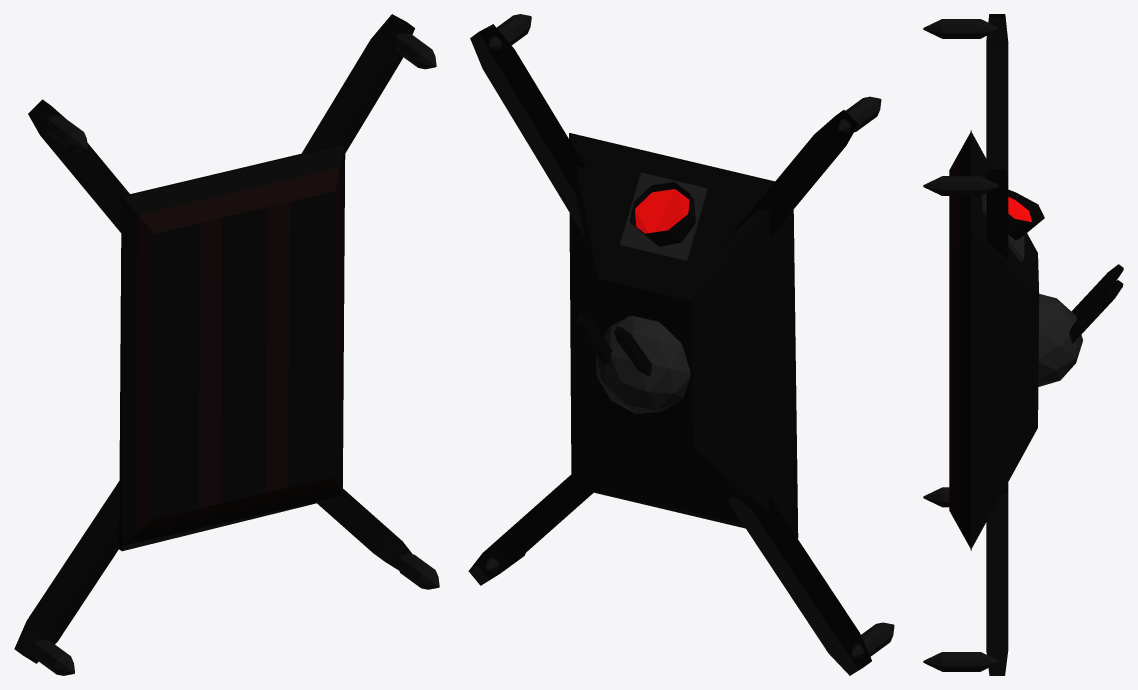
Rendered from VoladorINMOVIL.obj.
3 views of the same model, side by side, from view 1: azimuth 30°, elevation 25°; view 2: azimuth 150°, elevation 25°; view 3: azimuth 270°, elevation 25° (orthographic). The views are drawn at different scales.
Parts seen in each view (by area): view 1: Cylinder.081; view 2: Cylinder.081; view 3: Cylinder.081.
Part boxes in pixels (x1,y1,x2,y2): Cylinder.081: (14, 14, 439, 675); Cylinder.081: (468, 14, 894, 675); Cylinder.081: (923, 14, 1123, 675).
Size of the model in its own units: 0.8285 by 1.11 by 0.4003.
